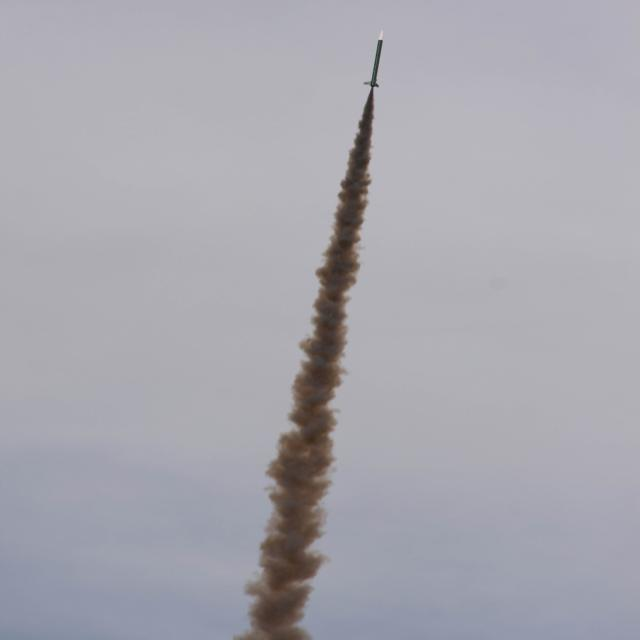Rocket: (364, 30, 384, 88)
